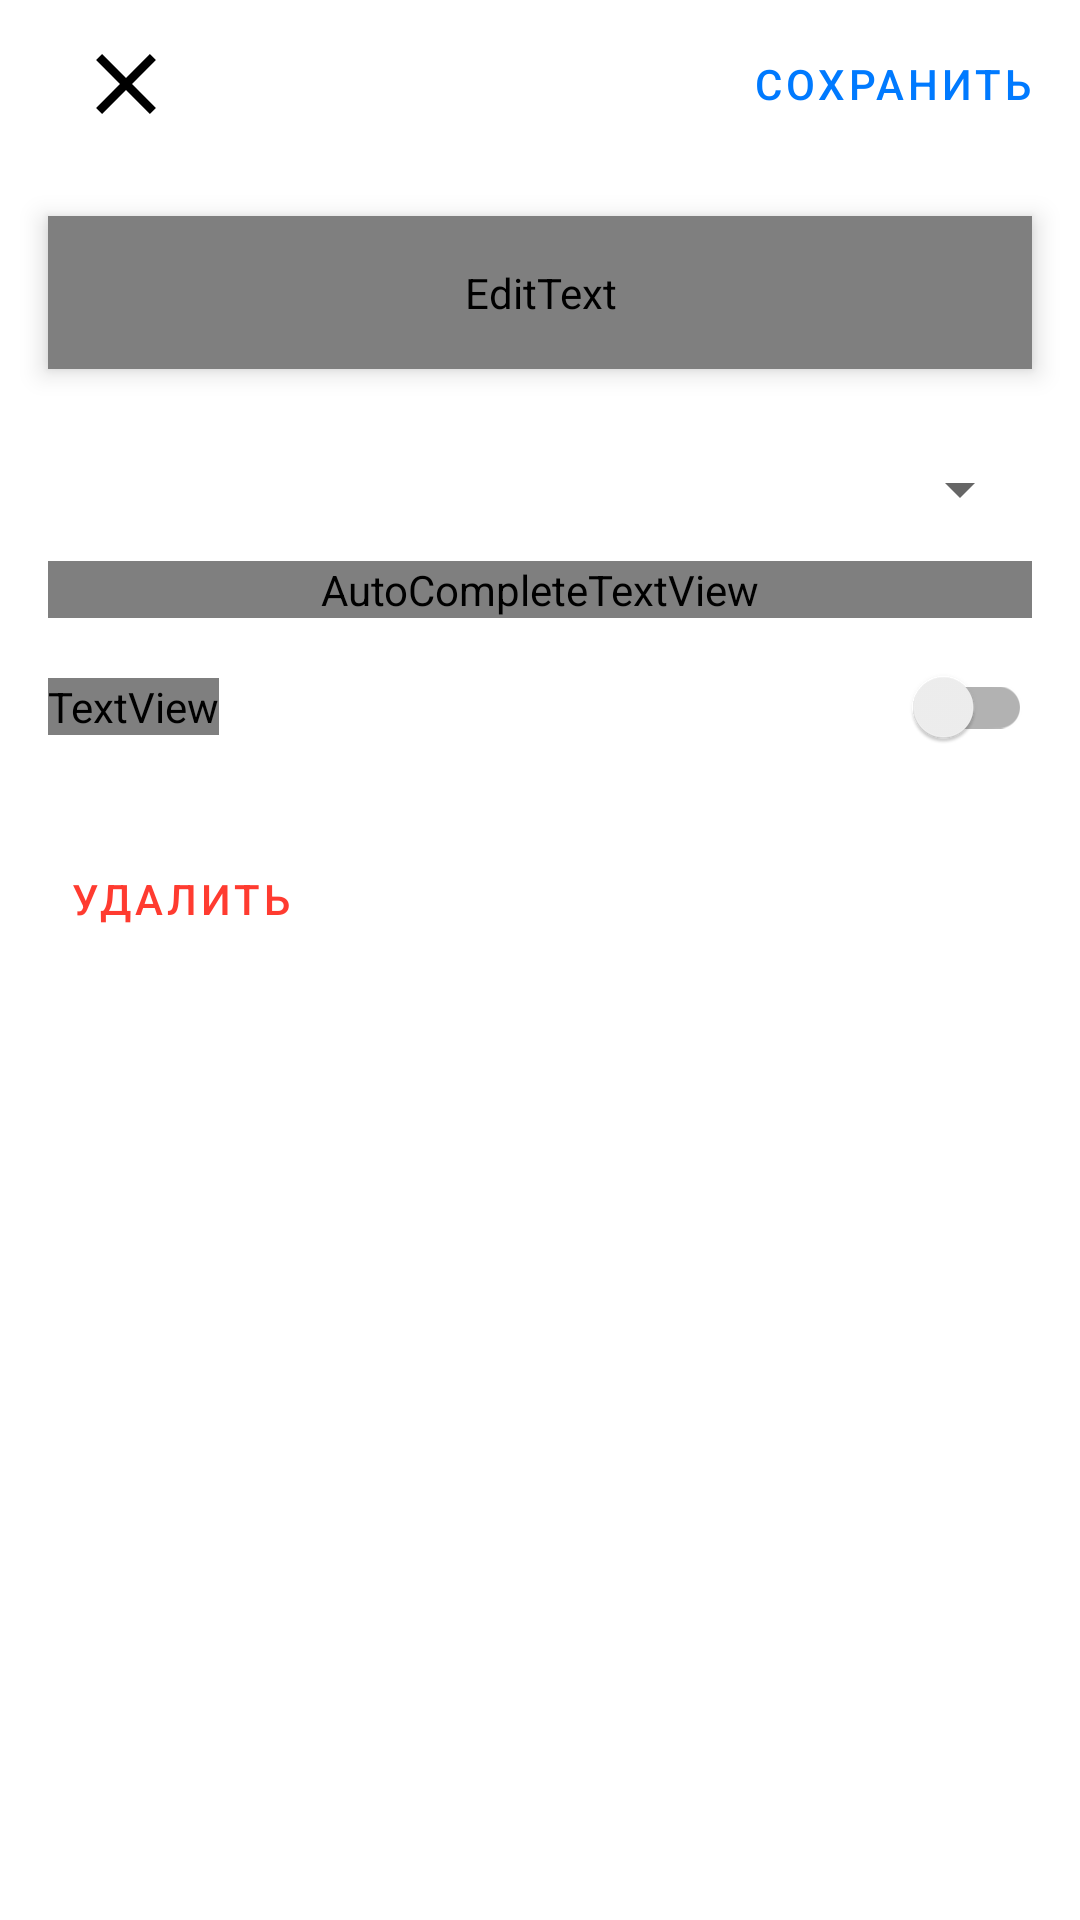

Where to tap for icons on this 1080 x 1920 app screen, as point (x, y):
close: point (126, 84)
